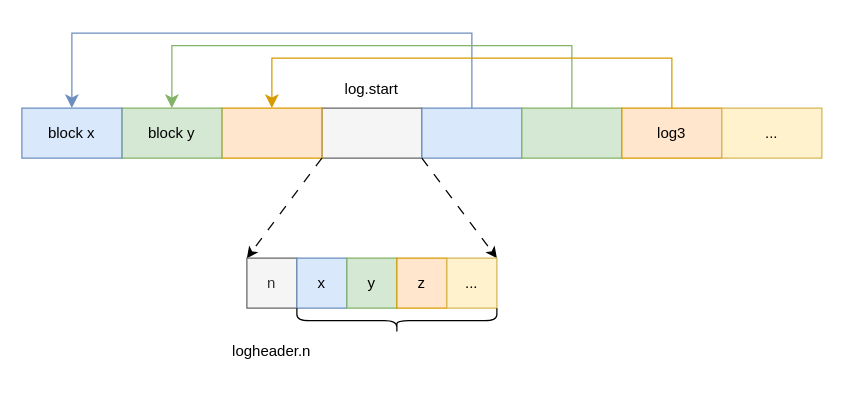
Some shapes in this 844 by 393 pixel diagram are drawn without their labels. Each missing label, with the centre of its shape:
"block z" belongs at pixel 271 132.
"log 0" belongs at pixel 471 132.
"log 1" belongs at pixel 571 132.
"logheader" belongs at pixel 371 132.
"logheader.block" belongs at pixel 396 320.
